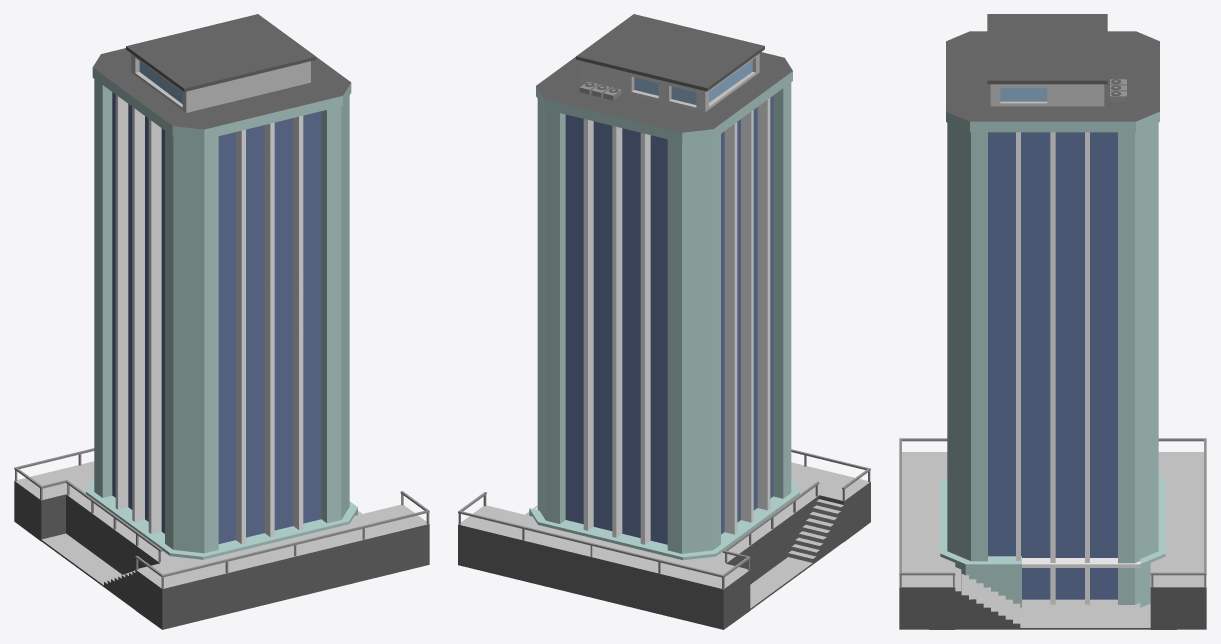
Rendered from city5.obj.
3 views of the same model, side by side, from view 1: azimuth 30°, elevation 25°; view 2: azimuth 150°, elevation 25°; view 3: azimuth 270°, elevation 25° (orthographic). The views are drawn at different scales.
Visible parts, largest first — view 1: Plane.046_Plane.583; view 2: Plane.046_Plane.583; view 3: Plane.046_Plane.583.
Boxes of the visible parts, <box> form: Plane.046_Plane.583: <box>14,14,429,629</box>; Plane.046_Plane.583: <box>458,14,870,629</box>; Plane.046_Plane.583: <box>899,14,1206,629</box>.
Size of the model in its own units: 0.0748 by 0.1336 by 0.0717.
Materials: 1 (1 with a texture image).
